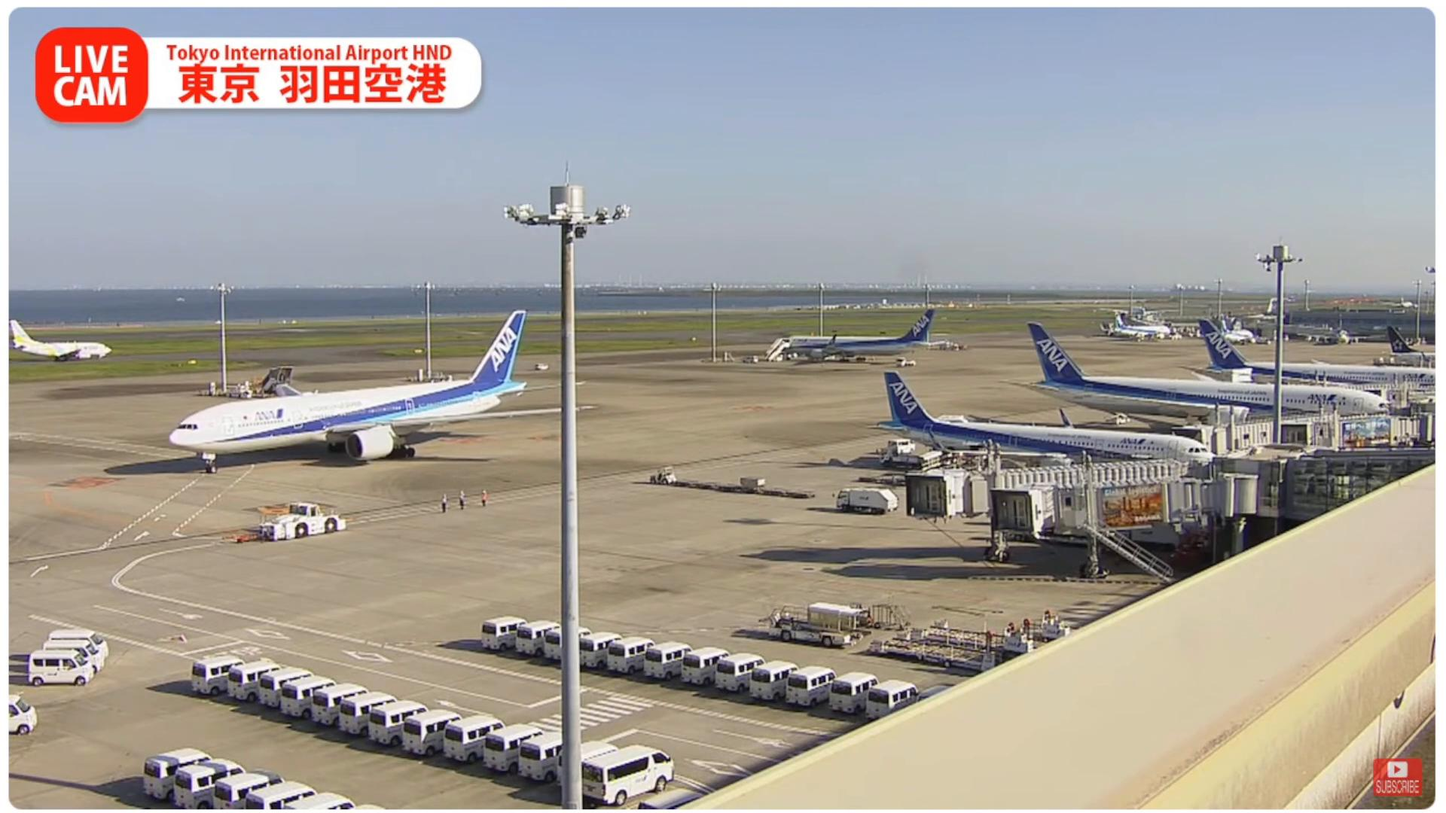APS: (261, 499, 350, 544)
Aerobridge: (904, 456, 1198, 520), (990, 479, 1258, 539)
Airplane: (164, 307, 602, 481)
JCPL: (904, 613, 1077, 658), (867, 634, 1012, 675)
Skyloader: (761, 600, 870, 651)
Window: (1281, 462, 1437, 524)
